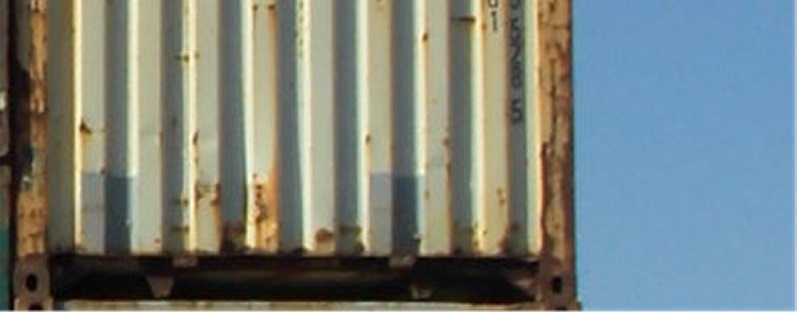container_no_door: (8, 6, 577, 301)
